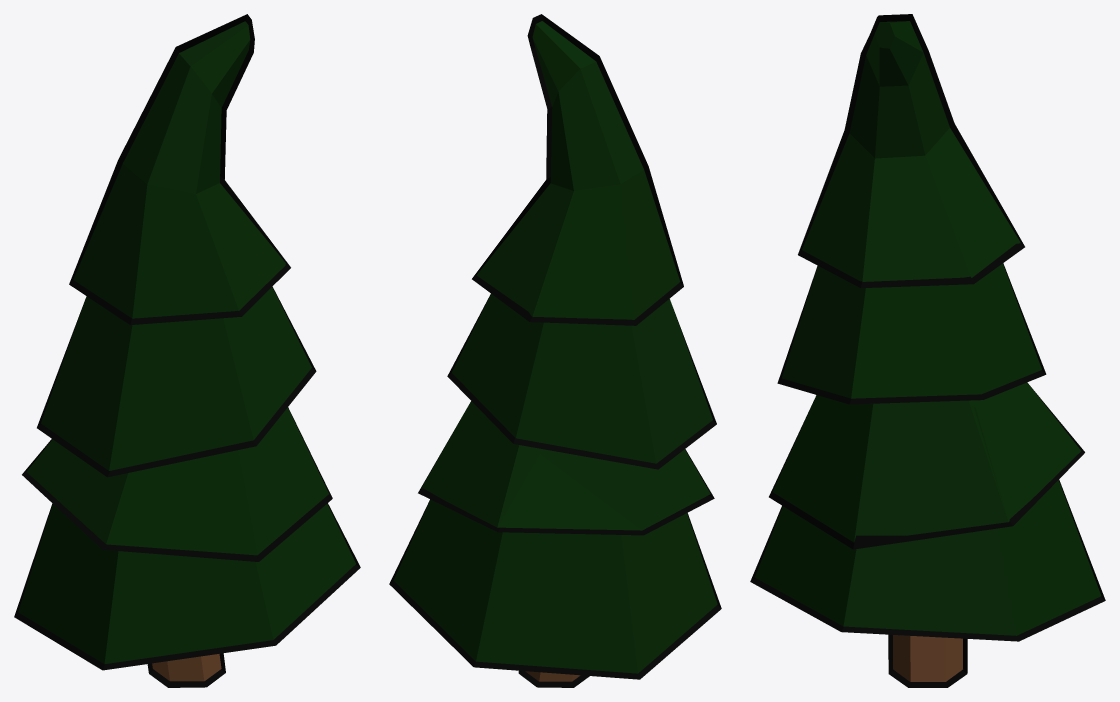
Rendered from tree_4.fbx.
The picture shows the model from 3 angles, left to right: view 1: azimuth 30°, elevation 25°; view 2: azimuth 150°, elevation 25°; view 3: azimuth 270°, elevation 25°; orthographic projection. The views are drawn at different scales.
Visible parts, largest first — view 1: tree_4, tree_4_outliner; view 2: tree_4, tree_4_outliner; view 3: tree_4, tree_4_outliner.
Part boxes in pixels (x1,y1,x2,y2): tree_4: [18, 21, 355, 681]; tree_4_outliner: [14, 14, 360, 687]; tree_4: [393, 21, 717, 681]; tree_4_outliner: [389, 14, 721, 687]; tree_4: [755, 21, 1101, 681]; tree_4_outliner: [750, 14, 1105, 687].
Bounding box in the file's own units: 75.05 × 182 × 86.42.
